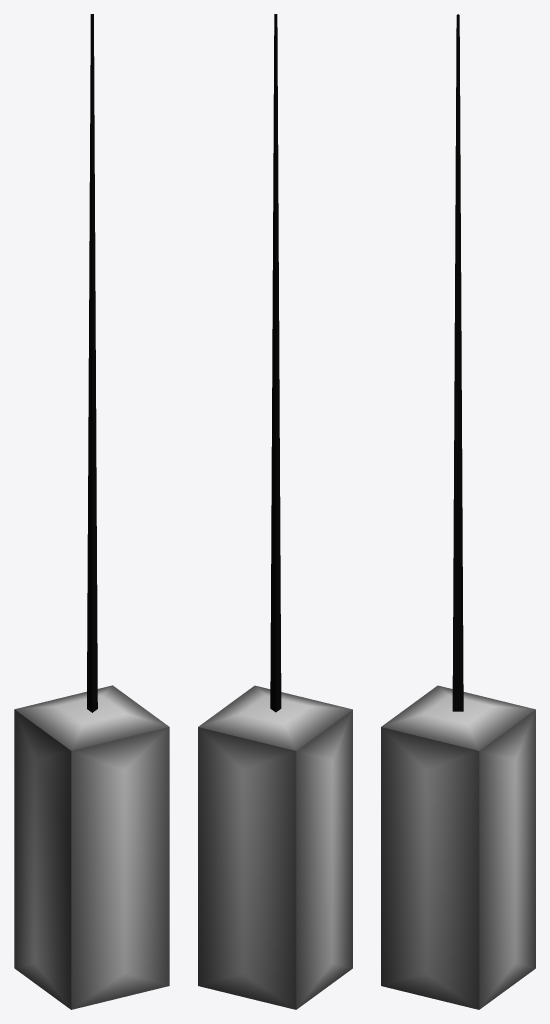
The model's file is LampQuad_White.fbx.
3 views of the same model, side by side, from view 1: azimuth 30°, elevation 25°; view 2: azimuth 150°, elevation 25°; view 3: azimuth 330°, elevation 25° (orthographic).
Parts seen in each view (by area): view 1: LampQuad_White; view 2: LampQuad_White; view 3: LampQuad_White.
Part boxes in pixels (x1,y1,x2,y2): LampQuad_White: [14, 14, 169, 1009]; LampQuad_White: [198, 14, 352, 1009]; LampQuad_White: [381, 14, 535, 1009].
Size of the model in its own units: 18.51 by 151 by 18.51.
